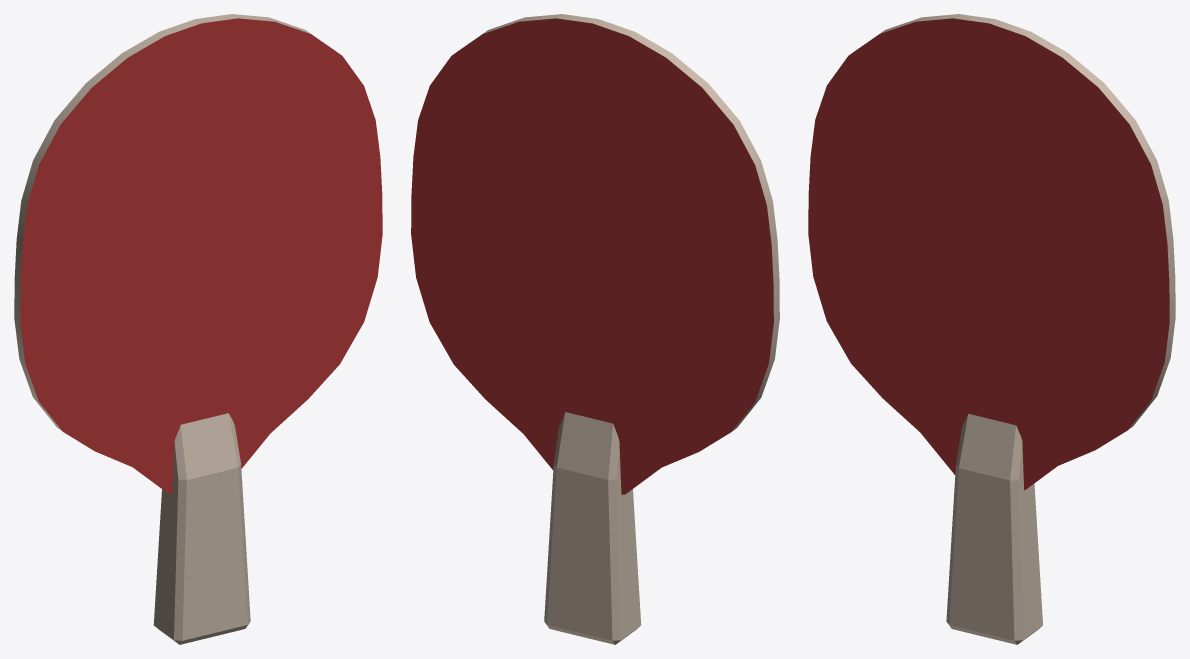
File: table-tennis-paddle.glb
3 views of the same model, side by side, from view 1: azimuth 30°, elevation 25°; view 2: azimuth 150°, elevation 25°; view 3: azimuth 330°, elevation 25° (orthographic).
Visible parts, largest first — view 1: table-tennis-paddle; view 2: table-tennis-paddle; view 3: table-tennis-paddle.
Part boxes in pixels (bbox=[...]): table-tennis-paddle: bbox=[14, 14, 382, 644]; table-tennis-paddle: bbox=[411, 14, 779, 644]; table-tennis-paddle: bbox=[808, 14, 1175, 644].
Size of the model in its own units: 0.162 by 0.26 by 0.02.
1 material, 1 textured.
